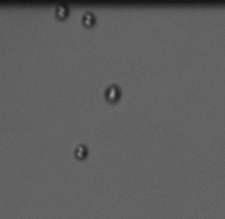Dead Cell: (104, 83, 121, 104), (53, 4, 69, 19), (74, 144, 88, 160), (81, 12, 95, 27)
